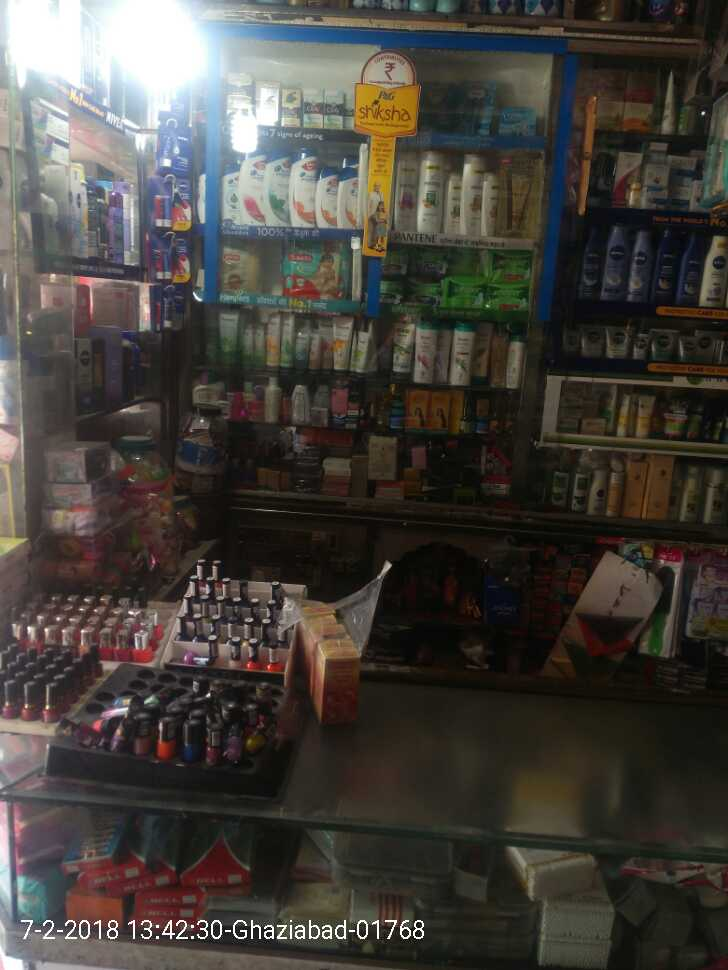venus: (457, 81, 496, 133), (422, 81, 457, 131), (499, 106, 535, 132)
